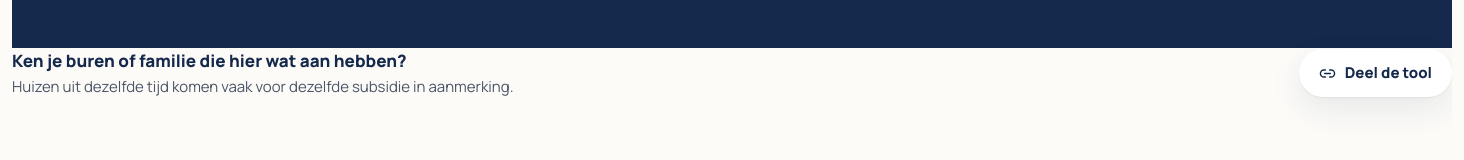
Scenario: het deelblok onder het resultaat › kopieert de kale check, zonder adres van de bezoeker
Click the button "Deel de tool": (1375, 73) 1299,49 -> 1452,97
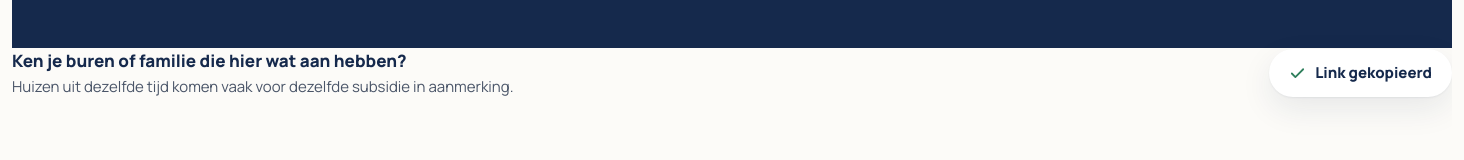
Expected: the button "Link gekopieerd" is shown, 1269,49 -> 1452,97
